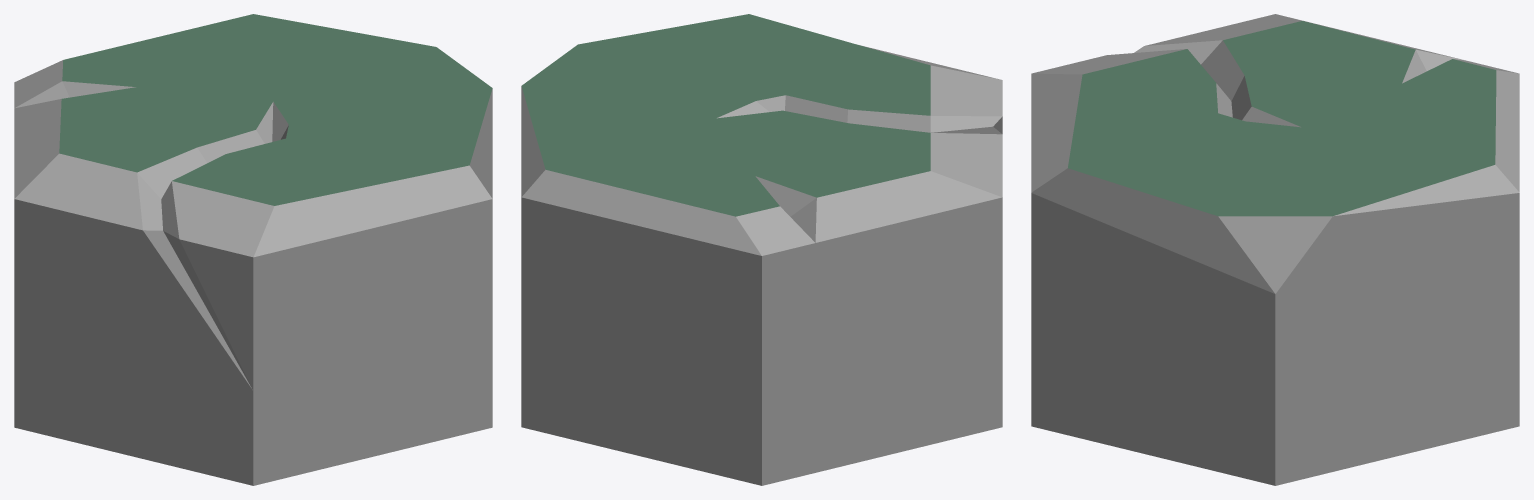
File: HexBase5.fbx
The picture shows the model from 3 angles, left to right: view 1: azimuth 30°, elevation 25°; view 2: azimuth 150°, elevation 25°; view 3: azimuth 270°, elevation 25°; orthographic projection. The views are drawn at different scales.
Visible parts, largest first — view 1: HexBase5; view 2: HexBase5; view 3: HexBase5.
Boxes of the visible parts, x1,y1,x2,y2 form: HexBase5: [14, 14, 492, 485]; HexBase5: [521, 14, 1002, 485]; HexBase5: [1031, 14, 1519, 485].
Size of the model in its own units: 2 by 1 by 1.73.
